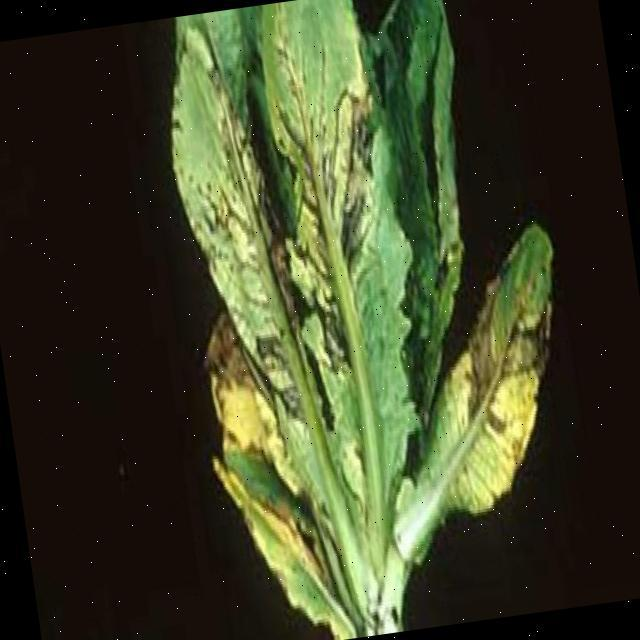Lettuce Mosaic Virus: (161, 61, 410, 580)
